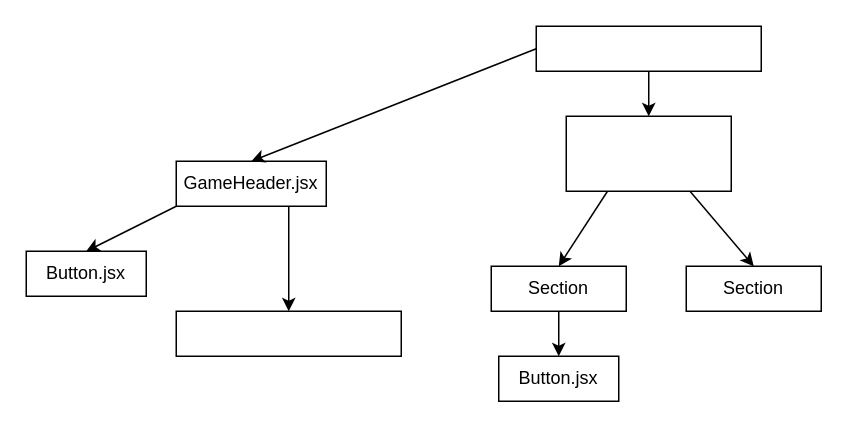
This 848x428 diagram has some shape labels left out. Here are the shapes that lost their labels. From the top down, the box of each, then its label:
(535, 25, 761, 71): main.jsx
(565, 115, 731, 191): GameContent.jsx
(175, 310, 401, 356): QuestionMarkCorrect.jsx
